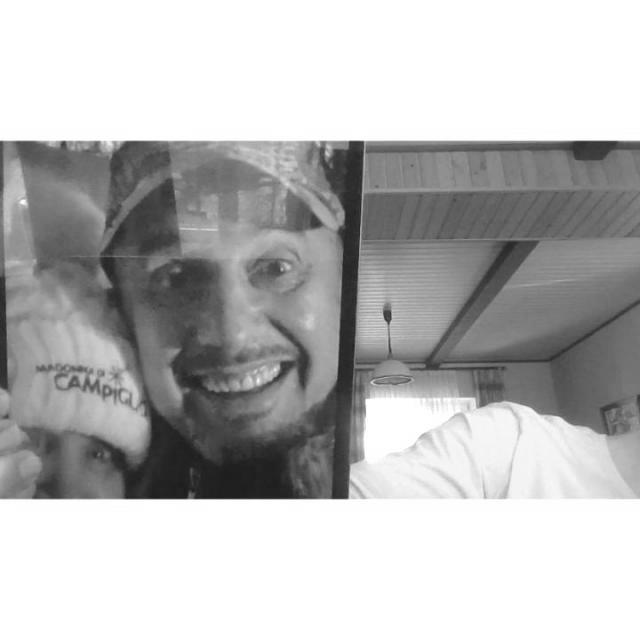fake: (0, 140, 362, 500)
